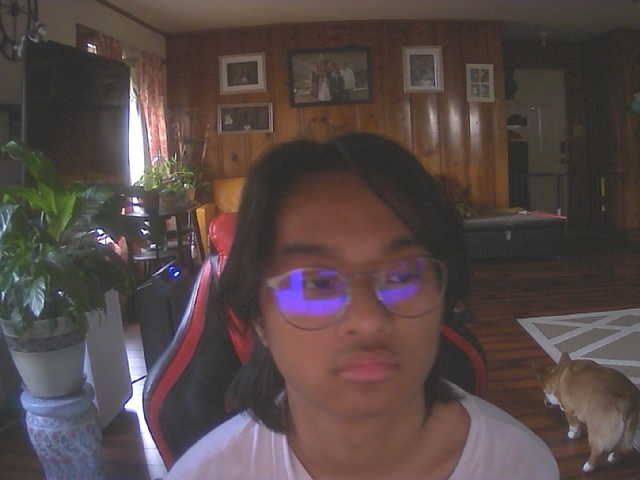neutral: (245, 140, 465, 425)
